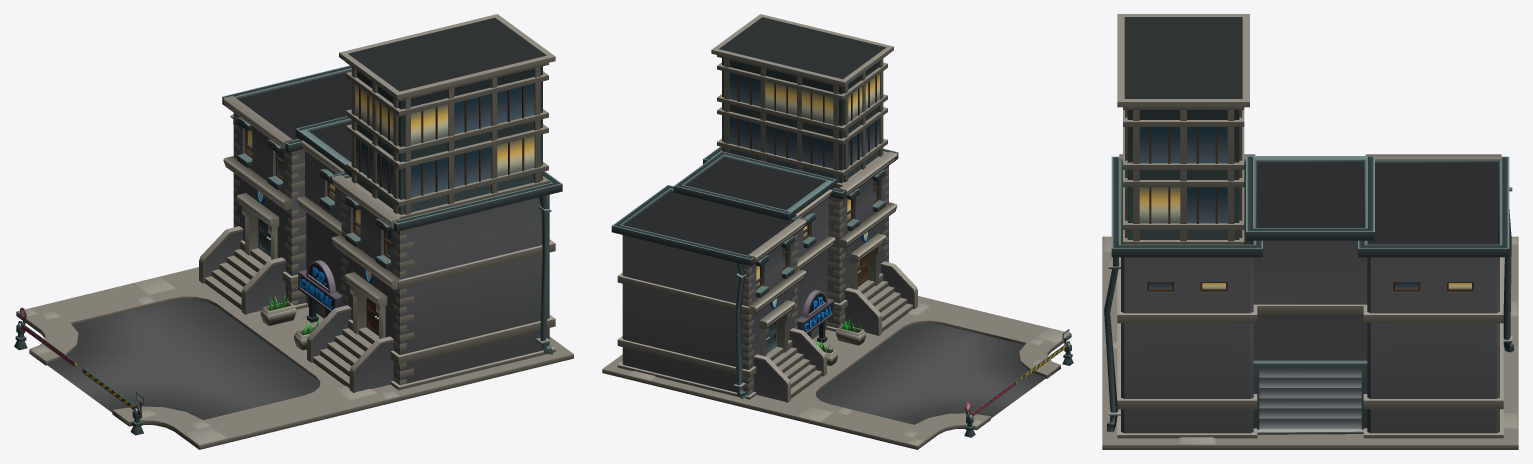
File: Building_17A.fbx
3 views of the same model, side by side, from view 1: azimuth 30°, elevation 25°; view 2: azimuth 150°, elevation 25°; view 3: azimuth 270°, elevation 25° (orthographic). The views are drawn at different scales.
Parts seen in each view (by area): view 1: Building_17A, Window_Lights_17A; view 2: Building_17A, Window_Lights_17A; view 3: Building_17A, Window_Lights_17A.
Boxes of the visible parts, x1,y1,x2,y2 form: Building_17A: (14,14,573,449); Window_Lights_17A: (248,85,534,234); Building_17A: (602,14,1073,449); Window_Lights_17A: (756,74,879,286); Building_17A: (1102,14,1518,449); Window_Lights_17A: (1139,187,1471,288).
Size of the model in its own units: 2830 by 1991 by 2200.
